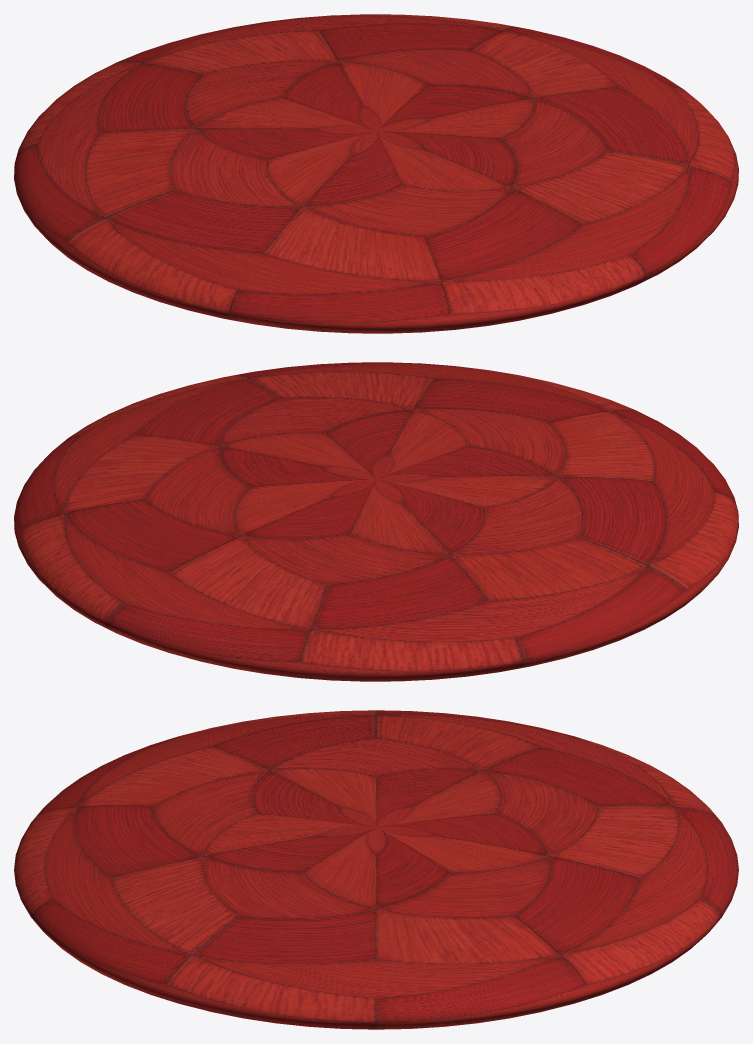
Rendered from DiscRed.glb.
3 renders of one model, top to bottom at view 1: azimuth 30°, elevation 25°; view 2: azimuth 150°, elevation 25°; view 3: azimuth 270°, elevation 25°, orthographic.
Visible parts, largest first — view 1: Sphere; view 2: Sphere; view 3: Sphere.
Boxes of the visible parts, left/top/right/bottom form: Sphere: left=14, top=14, right=738, bottom=333; Sphere: left=14, top=362, right=738, bottom=681; Sphere: left=14, top=710, right=738, bottom=1029.
Bounding box in the file's own units: 2 × 0.2604 × 2.
Materials: 1 (1 with a texture image).
